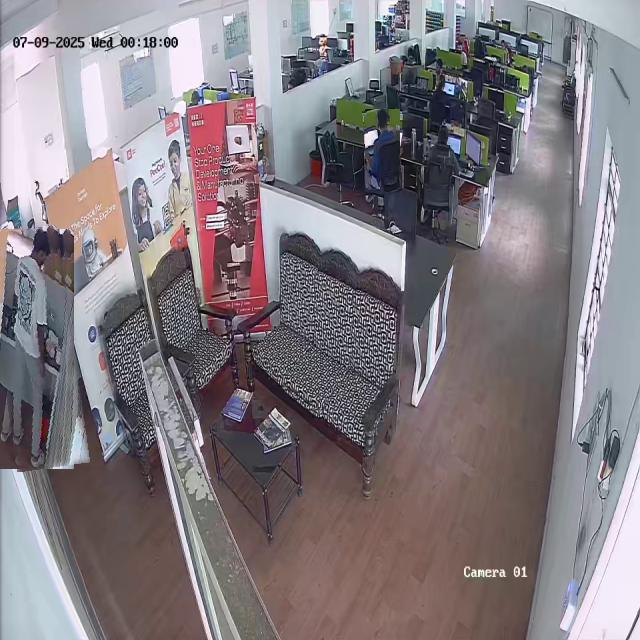person: (0, 227, 82, 470), (364, 108, 401, 193)
